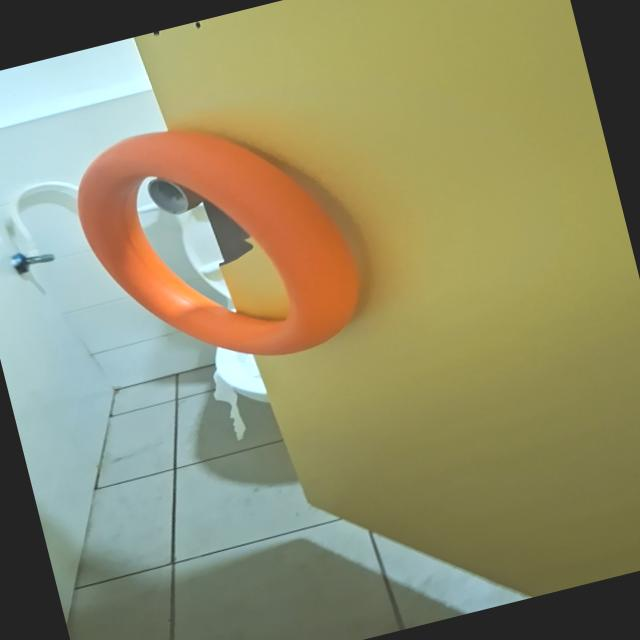note: (59, 89, 376, 398)
